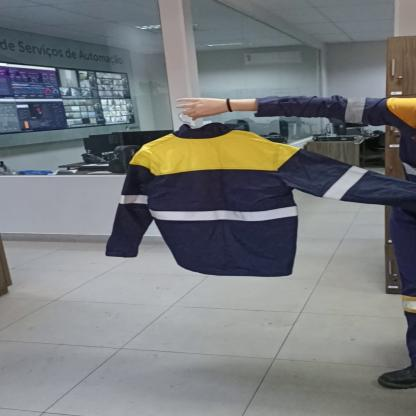C_eletrica: (104, 127, 416, 279)
